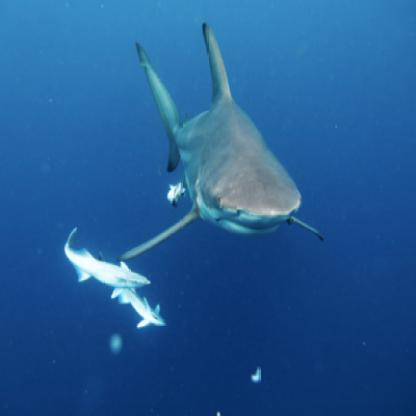shark: (117, 20, 325, 263)
